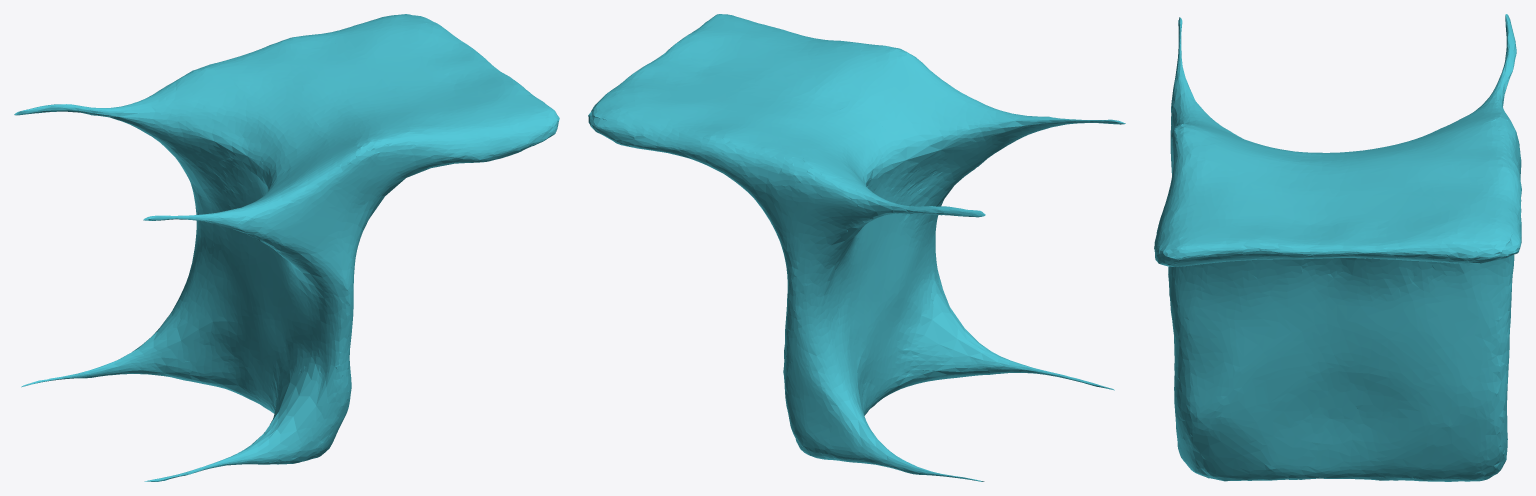
3 renders of one model, left to right at view 1: azimuth 30°, elevation 25°; view 2: azimuth 150°, elevation 25°; view 3: azimuth 270°, elevation 25°, orthographic. The views are drawn at different scales.
Parts seen in each view (by area): view 1: Renderer Node; view 2: Renderer Node; view 3: Renderer Node.
Boxes of the visible parts, x1=… form: Renderer Node: x1=14, y1=14, x2=559, y2=481; Renderer Node: x1=588, y1=14, x2=1125, y2=481; Renderer Node: x1=1154, y1=14, x2=1521, y2=481.
Bounding box in the file's own units: 0.6037 × 0.4326 × 0.3823.
1 material, 1 textured.
